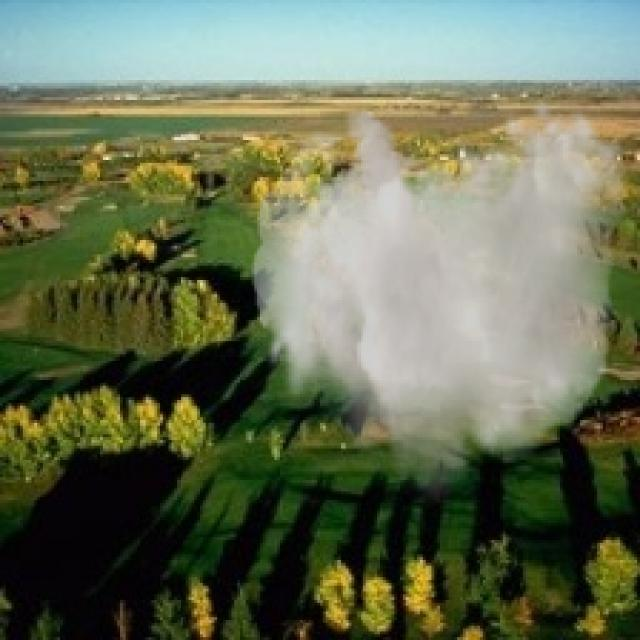smoke: (252, 94, 628, 512)
